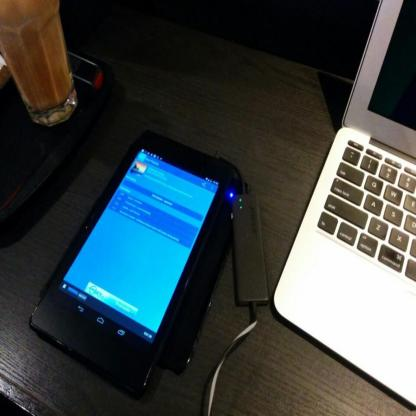board: (276, 11, 416, 391)
